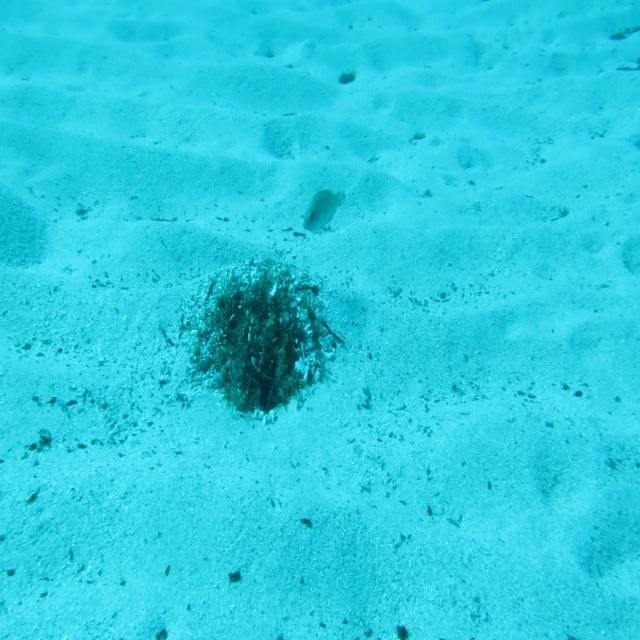AM: (302, 188, 347, 235)
core_nest: (241, 300, 285, 334)
nest: (189, 256, 338, 427)
vegetation: (302, 224, 309, 234)
